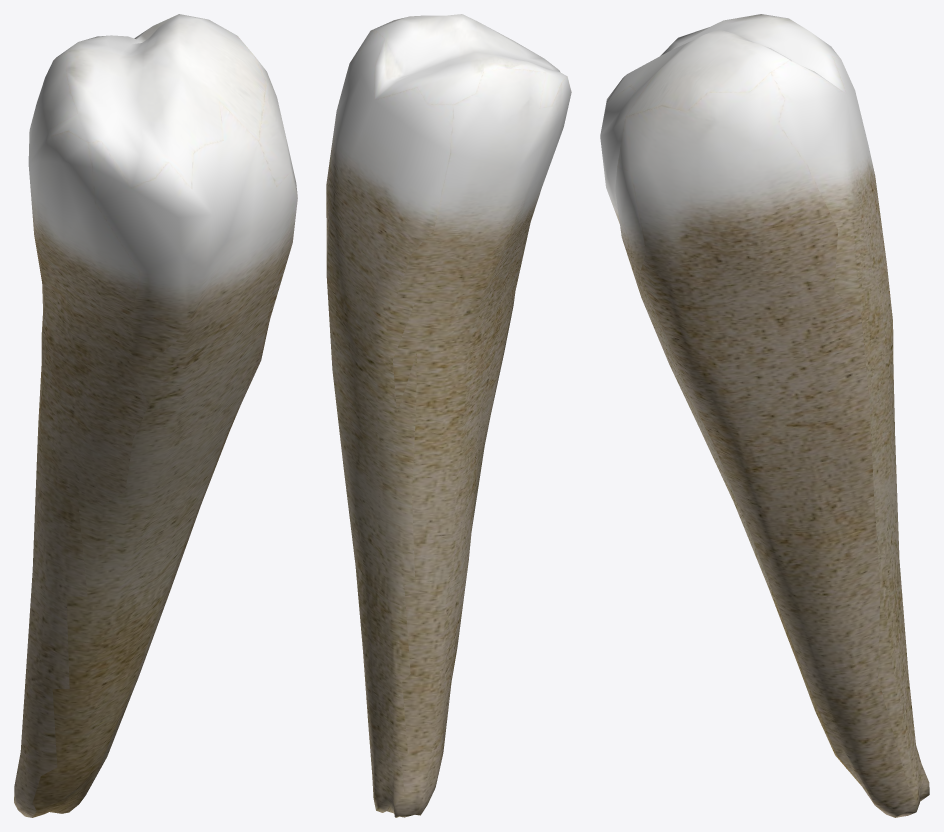
Rendered from эрүүний 2-р бага араа.fbx.
The picture shows the model from 3 angles, left to right: view 1: azimuth 30°, elevation 25°; view 2: azimuth 150°, elevation 25°; view 3: azimuth 270°, elevation 25°; orthographic projection. The views are drawn at different scales.
Visible parts, largest first — view 1: polySurface41; view 2: polySurface41; view 3: polySurface41.
Boxes of the visible parts, x1,y1,x2,y2 form: polySurface41: (14, 14, 297, 817); polySurface41: (326, 14, 571, 817); polySurface41: (600, 14, 929, 817).
Size of the model in its own units: 2.81 by 9.86 by 3.71.
Materials: 1 (1 with a texture image).
